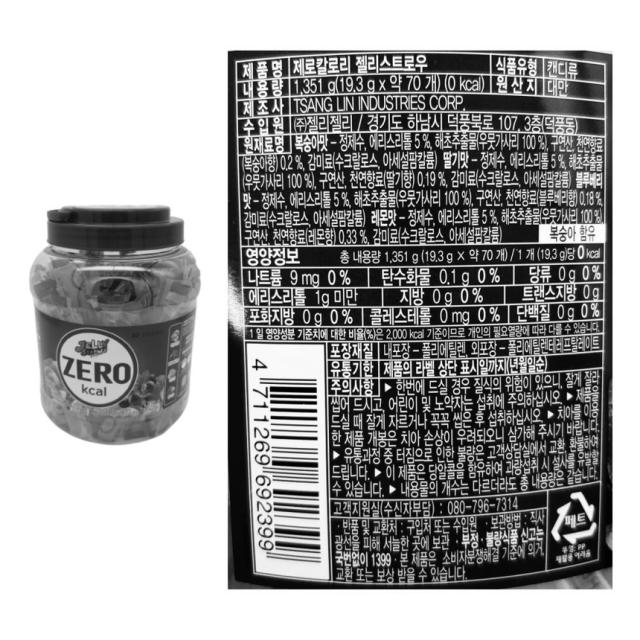Nutrition Label: (243, 242, 614, 344)
